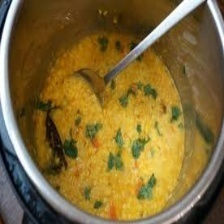dal: (32, 30, 186, 221)
